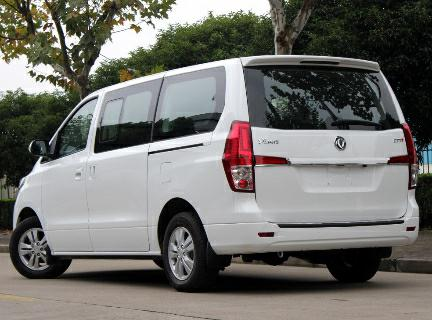东风风行-风行CM7: (6, 52, 419, 293)
